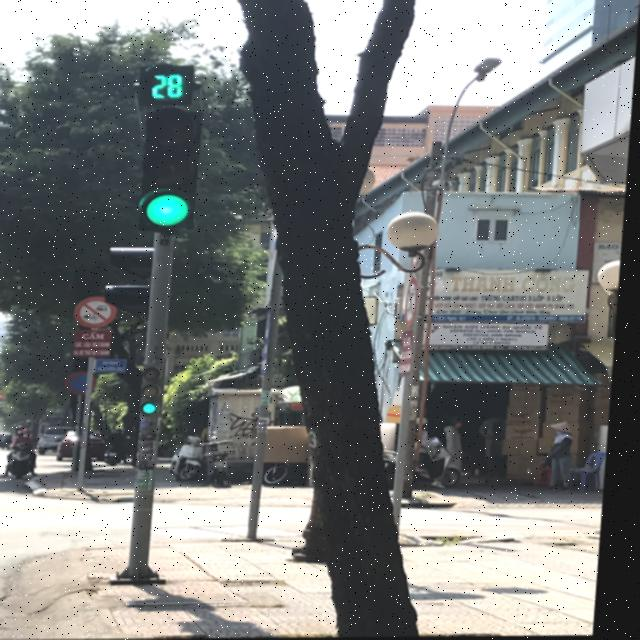Green: (128, 106, 212, 235)
